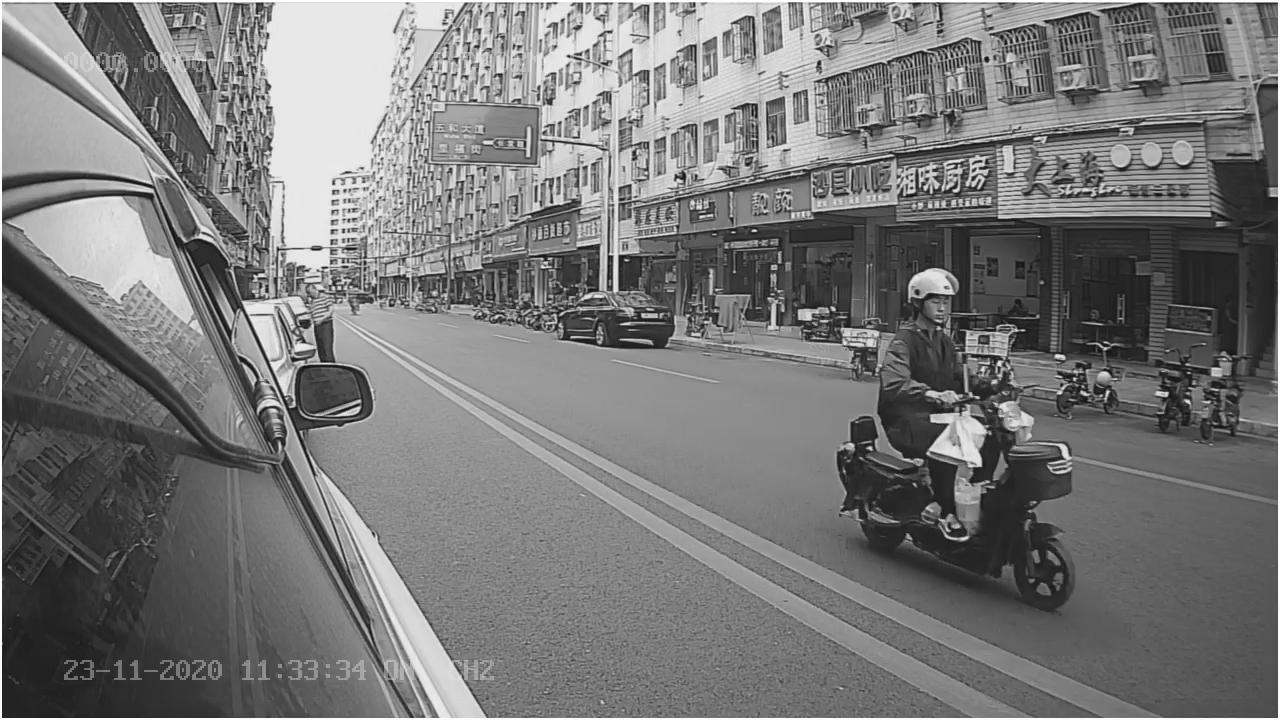person: (882, 266, 995, 404)
